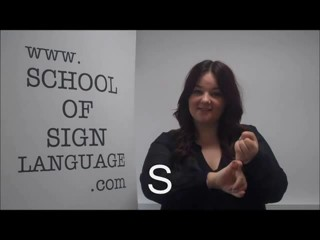S: (204, 126, 268, 201)
